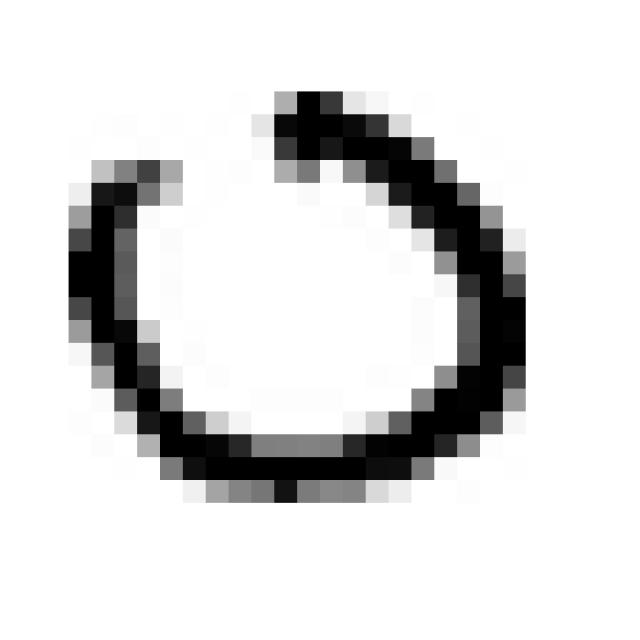5 -five-: (51, 76, 538, 510)
